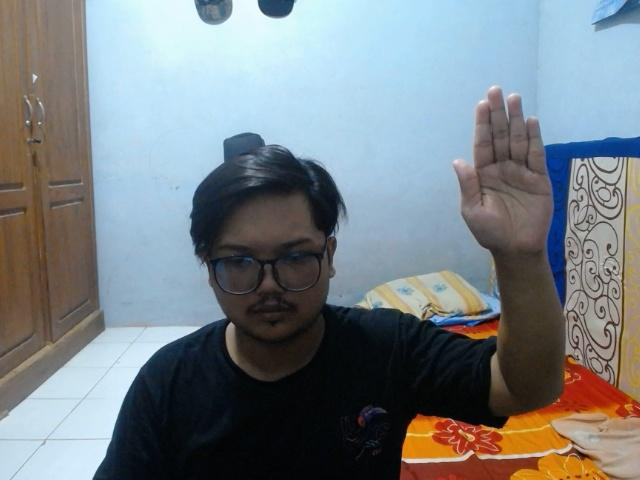Release: (447, 82, 557, 259)
